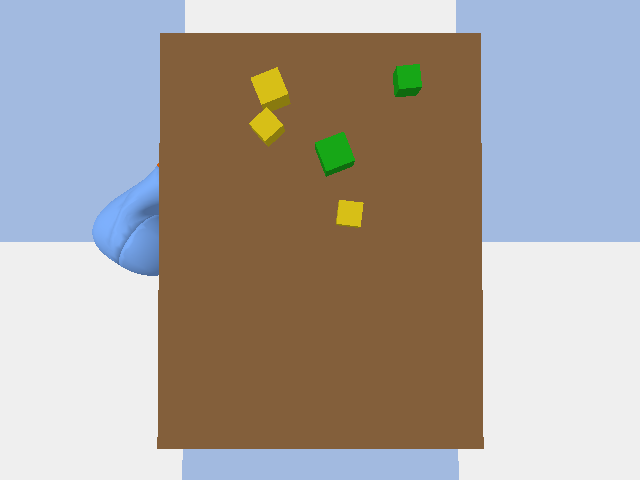green_obj: (315, 132, 354, 176), (393, 64, 421, 96)
yellow_obj: (251, 67, 290, 111), (249, 107, 284, 146), (336, 200, 363, 227)
